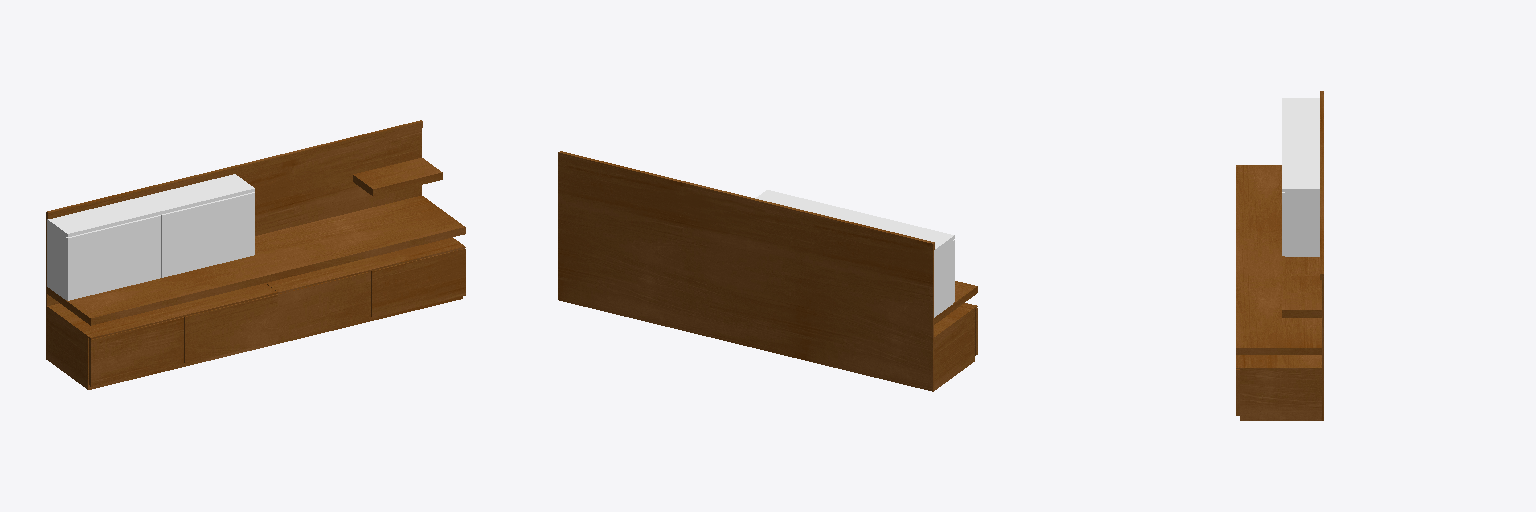
The picture shows the model from 3 angles: view 1: azimuth 30°, elevation 25°; view 2: azimuth 150°, elevation 25°; view 3: azimuth 270°, elevation 25°; orthographic projection.
Parts seen in each view (by area): view 1: base_furniture_Cube.006, boxes_Cube.009; view 2: base_furniture_Cube.006, boxes_Cube.009; view 3: base_furniture_Cube.006, boxes_Cube.009.
Boxes of the visible parts, box(x1,y1,x2,y2) form: base_furniture_Cube.006: box(46, 120, 465, 389); boxes_Cube.009: box(47, 174, 254, 300); base_furniture_Cube.006: box(558, 151, 977, 391); boxes_Cube.009: box(755, 190, 954, 317); base_furniture_Cube.006: box(1236, 91, 1323, 420); boxes_Cube.009: box(1282, 98, 1319, 256).
Bounding box in the file's own units: 2.69 × 1.02 × 0.5498.
Materials: 2 (1 with a texture image).